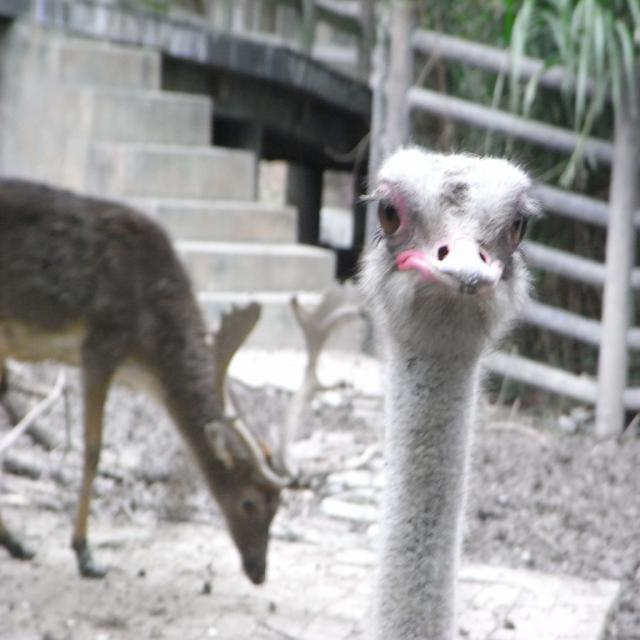Deer: (0, 174, 373, 586)
